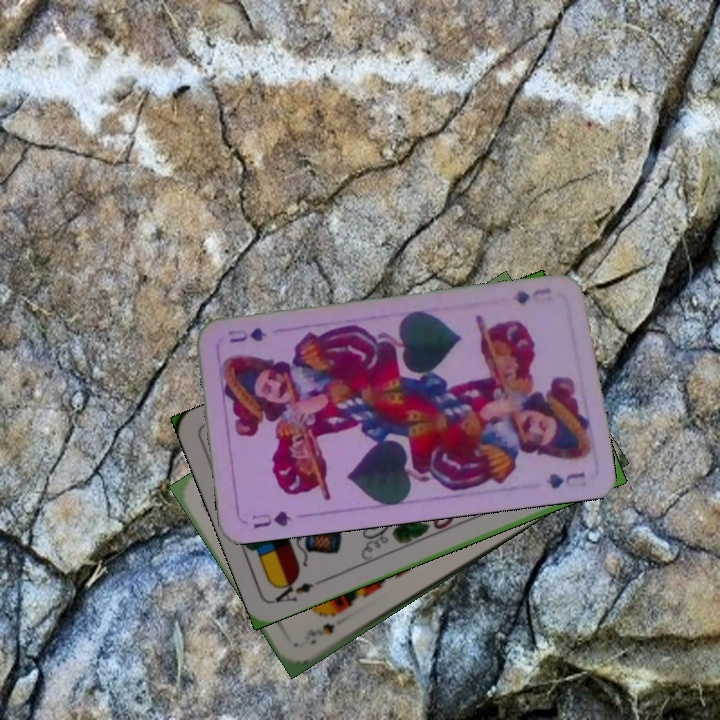EA: (270, 575, 326, 606)
GU: (247, 507, 295, 531), (509, 283, 554, 307)
S9: (300, 619, 338, 647)
